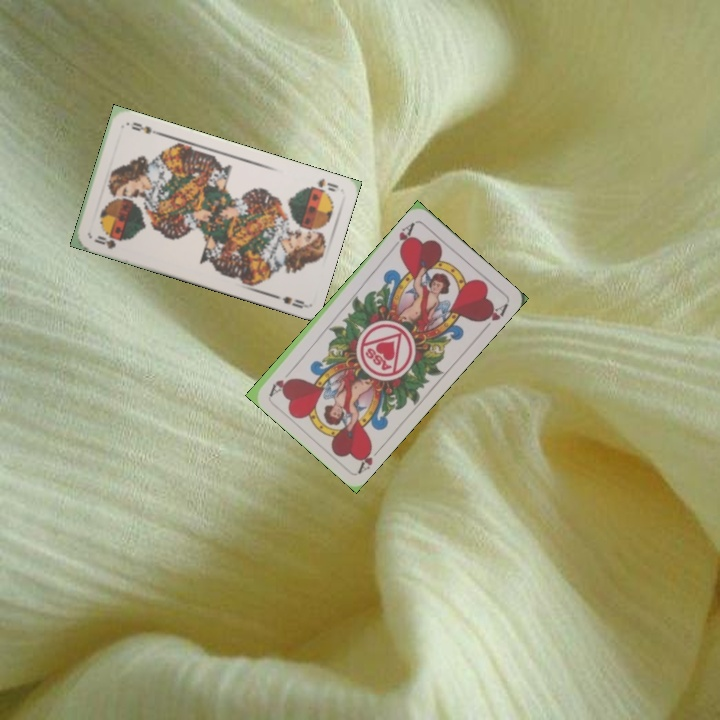HA: (354, 441, 386, 475), (387, 218, 417, 254)
SO: (90, 232, 125, 251), (313, 174, 341, 194)
